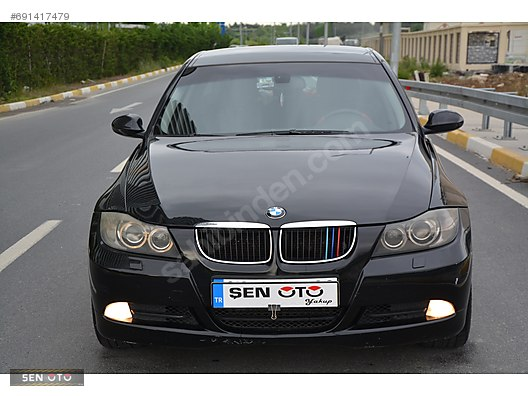bmw: (85, 43, 477, 357)
